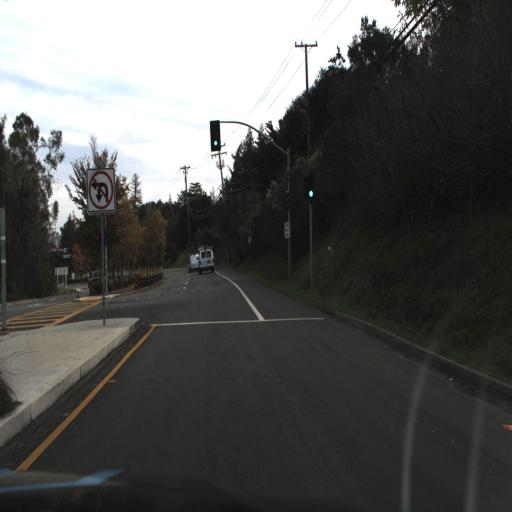car: (86, 265, 112, 292), (196, 243, 215, 274), (89, 267, 107, 285), (185, 247, 197, 274)
trafficLight-Green: (209, 120, 224, 160), (209, 117, 221, 154), (304, 174, 316, 207), (307, 182, 316, 209)
